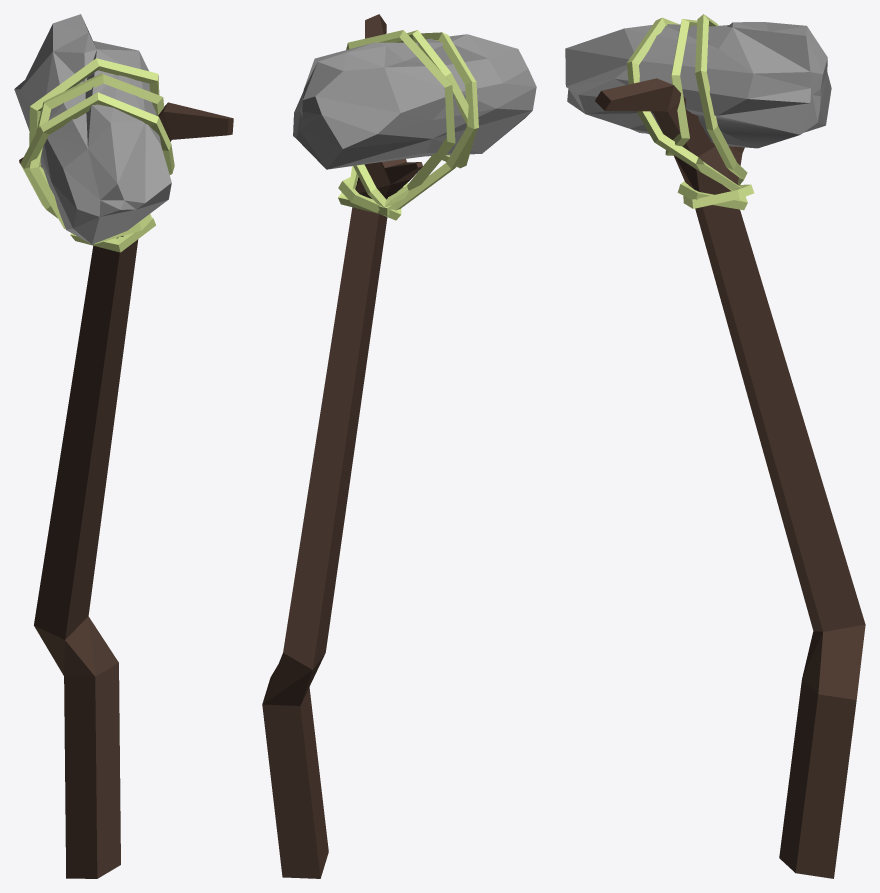
File: hammer.fbx
The picture shows the model from 3 angles, left to right: view 1: azimuth 30°, elevation 25°; view 2: azimuth 150°, elevation 25°; view 3: azimuth 270°, elevation 25°; orthographic projection. The views are drawn at different scales.
Parts seen in each view (by area): view 1: hammer; view 2: hammer; view 3: hammer.
Part boxes in pixels (<box>): hammer: <box>14,14,233,878</box>; hammer: <box>262,14,536,878</box>; hammer: <box>565,14,865,878</box>.
Size of the model in its own units: 13.98 by 68.4 by 22.26.
